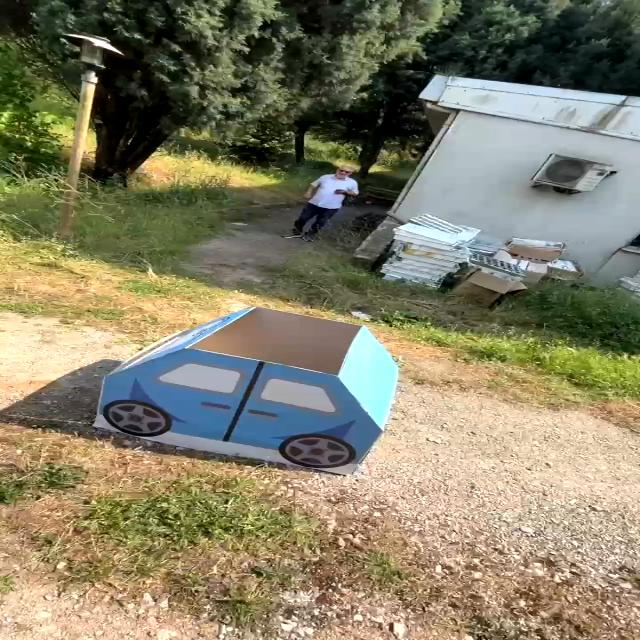blue_car: (66, 306, 437, 470)
